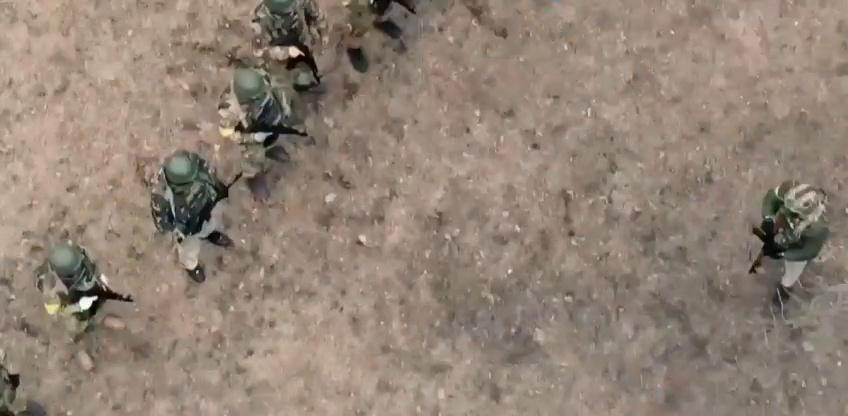person: (35, 242, 138, 370), (150, 148, 246, 284), (217, 66, 309, 200), (748, 180, 832, 306), (246, 0, 327, 78)
